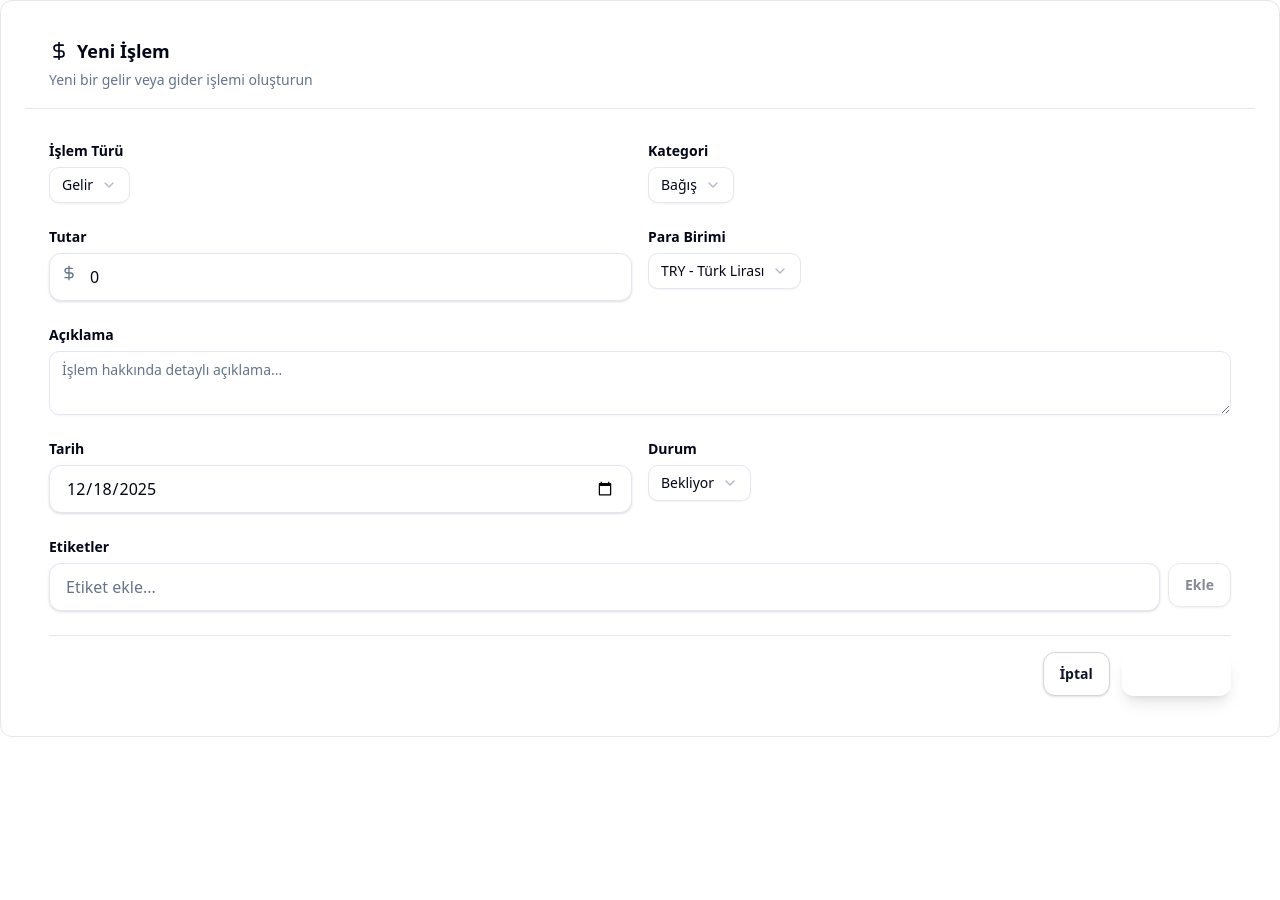
Test case: TransactionForm › Tag Management › allows adding tags
Type "important" into the field with placeholder "Etiket ekle...". click: (604, 587)
box: [49,563,1160,611]
Then press Enter
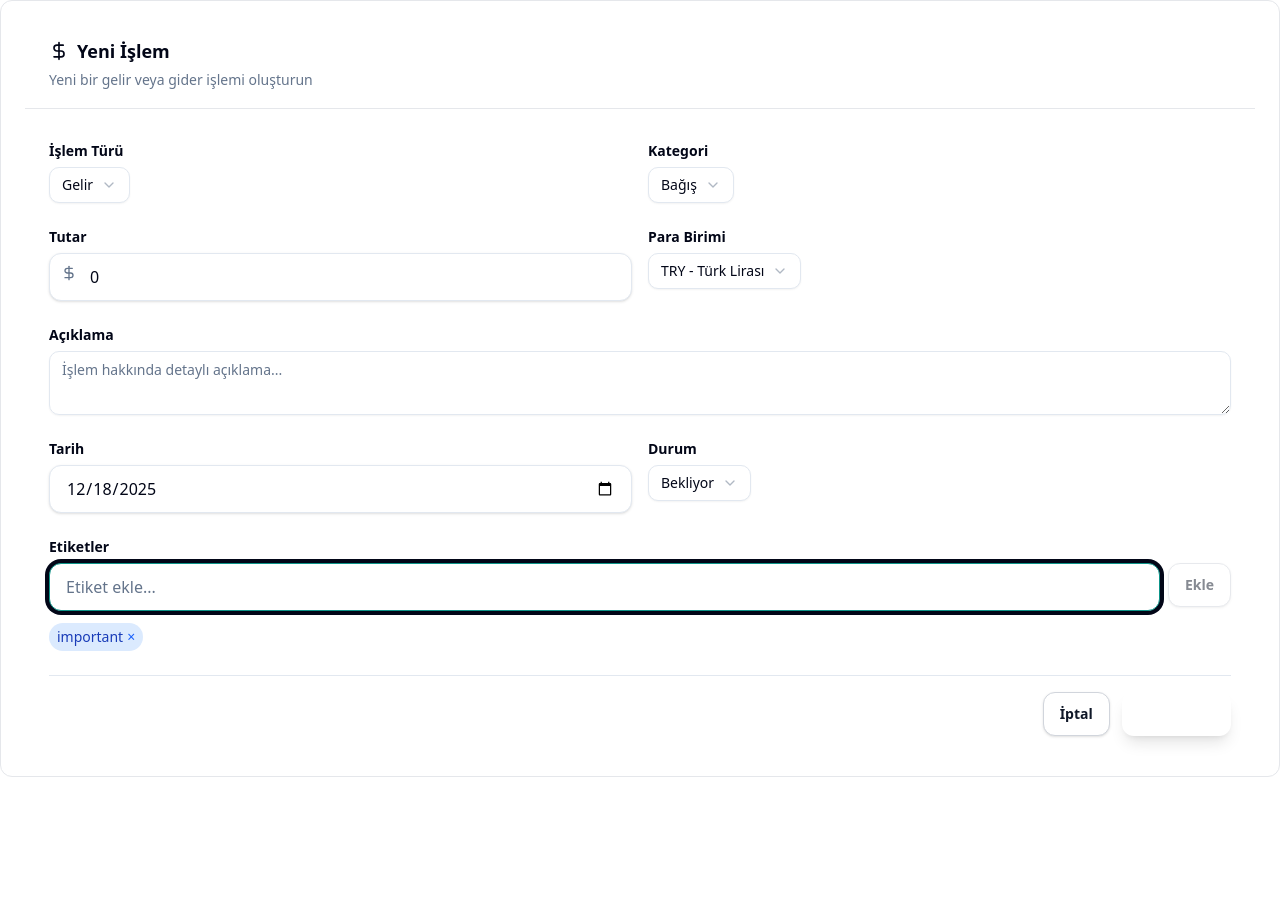
Expected: the text "important" is shown, [57,627,123,647]
